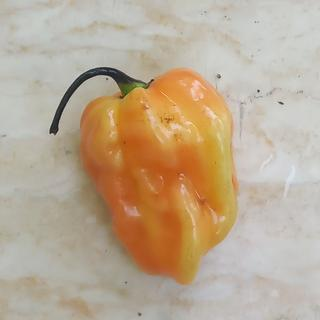Grade-A: (72, 64, 242, 286)
